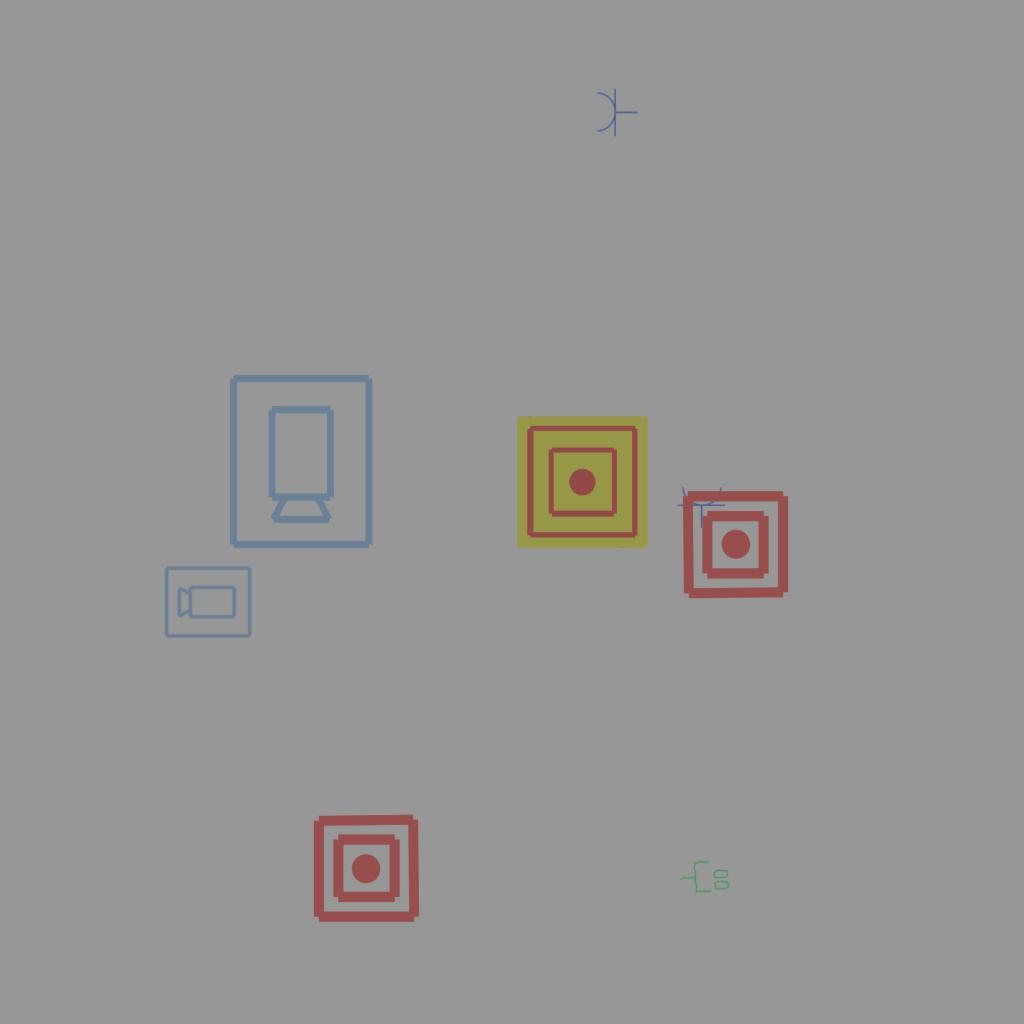Datenanschluss_zweifach: (677, 858, 732, 896)
KFO_Kamera_mit_Festobjektiv: (223, 370, 377, 552), (163, 563, 254, 640)
NAM-Nichtautomatischer_Melder: (516, 416, 648, 548), (310, 812, 423, 925), (679, 488, 792, 601)
Schukosteckdose_einfach: (595, 87, 638, 137), (677, 485, 727, 528)
